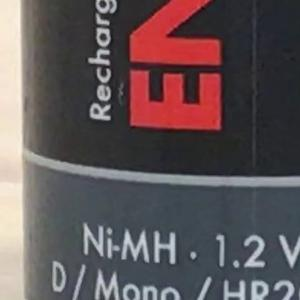NIMH: (74, 222, 181, 266)
